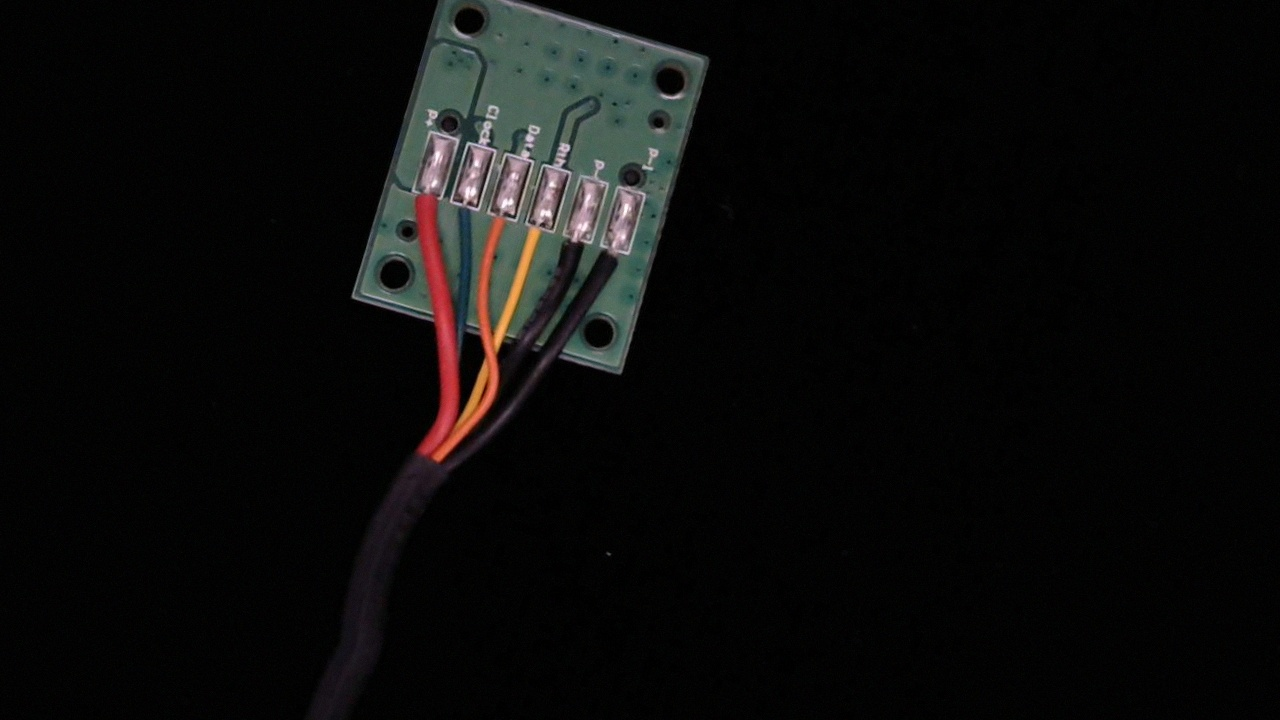Black: (548, 216, 599, 290)
Black1: (585, 231, 636, 304)
Green: (439, 185, 486, 252)
Orange: (475, 194, 522, 262)
Red: (400, 174, 448, 246)
Yellow: (512, 203, 561, 277)
